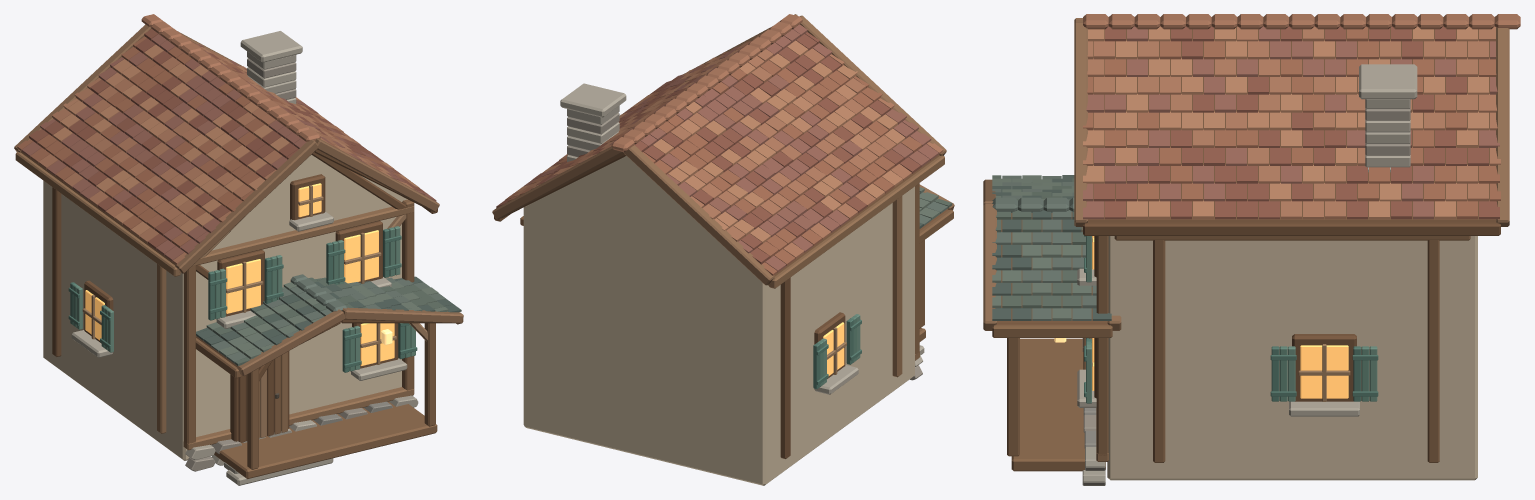
File: loft.glb
3 views of the same model, side by side, from view 1: azimuth 30°, elevation 25°; view 2: azimuth 150°, elevation 25°; view 3: azimuth 270°, elevation 25° (orthographic). The views are drawn at different scales.
Visible parts, largest first — view 1: loft Warm limewash 02, loft Oiled oak 02, loft Fired clay 03, loft Fired clay 04, loft Oiled oak 01, loft Oiled oak 03, loft Oak end grain 01, loft Fired clay 05, loft Fired clay 02, loft Fired clay 01, loft Warm slate 03, loft Honey glass 01 (+11 smaller); view 2: loft Warm limewash 02, loft Fired clay 03, loft Fired clay 04, loft Fired clay 02, loft Fired clay 05, loft Fired clay 01, loft Oak end grain 01, loft Oiled oak 03, loft Oiled oak 01, loft Warm slate 03, loft Oiled oak 02, loft Weathered sage paint 01 (+3 smaller); view 3: loft Warm limewash 02, loft Fired clay 03, loft Oiled oak 02, loft Fired clay 01, loft Fired clay 05, loft Oiled oak 01, loft Fired clay 04, loft Fired clay 02, loft Oak end grain 01, loft Warm slate 03, loft Slate green shingles 03, loft Slate green shingles 04 (+9 smaller).
Part boxes in pixels (x1=…): loft Warm limewash 02: x1=43, y1=155, x2=407, y2=460; loft Oiled oak 02: x1=184, y1=199, x2=463, y2=478; loft Fired clay 03: x1=38, y1=14, x2=403, y2=264; loft Fired clay 04: x1=22, y1=34, x2=436, y2=261; loft Oiled oak 01: x1=20, y1=149, x2=447, y2=442; loft Oiled oak 03: x1=15, y1=152, x2=414, y2=450; loft Oak end grain 01: x1=14, y1=24, x2=463, y2=376; loft Fired clay 05: x1=53, y1=44, x2=419, y2=236; loft Fired clay 02: x1=17, y1=36, x2=403, y2=248; loft Fired clay 01: x1=29, y1=29, x2=427, y2=249; loft Warm slate 03: x1=71, y1=31, x2=407, y2=485; loft Honey glass 01: x1=85, y1=183, x2=394, y2=365; loft Warm limewash 02: x1=523, y1=156, x2=914, y2=485; loft Fired clay 03: x1=513, y1=14, x2=943, y2=259; loft Fired clay 04: x1=523, y1=24, x2=938, y2=272; loft Fired clay 02: x1=505, y1=40, x2=922, y2=275; loft Fired clay 05: x1=515, y1=40, x2=905, y2=243; loft Fired clay 01: x1=496, y1=32, x2=920, y2=264; loft Oak end grain 01: x1=492, y1=14, x2=954, y2=285; loft Oiled oak 03: x1=768, y1=155, x2=944, y2=377; loft Oiled oak 01: x1=494, y1=153, x2=948, y2=458; loft Warm slate 03: x1=560, y1=83, x2=924, y2=394; loft Oiled oak 02: x1=520, y1=183, x2=953, y2=354; loft Weathered sage paint 01: x1=813, y1=319, x2=861, y2=388; loft Warm limewash 02: x1=1107, y1=236, x2=1477, y2=480; loft Fired clay 03: x1=1083, y1=14, x2=1520, y2=219; loft Oiled oak 02: x1=992, y1=236, x2=1470, y2=471; loft Fired clay 01: x1=1094, y1=26, x2=1499, y2=219; loft Fired clay 05: x1=1083, y1=26, x2=1488, y2=219; loft Oiled oak 01: x1=997, y1=27, x2=1500, y2=401; loft Fired clay 04: x1=1083, y1=26, x2=1499, y2=219; loft Fired clay 02: x1=1083, y1=26, x2=1500, y2=219; loft Oak end grain 01: x1=983, y1=18, x2=1509, y2=330; loft Warm slate 03: x1=1077, y1=64, x2=1417, y2=416; loft Slate green shingles 03: x1=992, y1=175, x2=1096, y2=320; loft Slate green shingles 04: x1=992, y1=175, x2=1091, y2=320.
Bounding box in the file's own units: 5.28 × 5.92 × 7.1.
